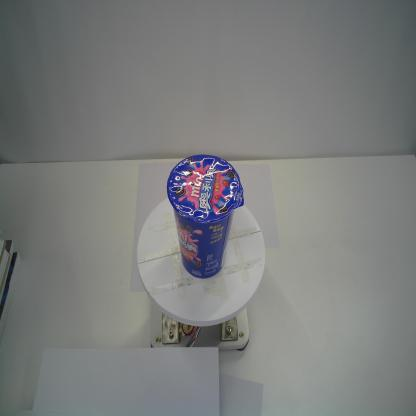Dessert: (165, 153, 245, 279)
